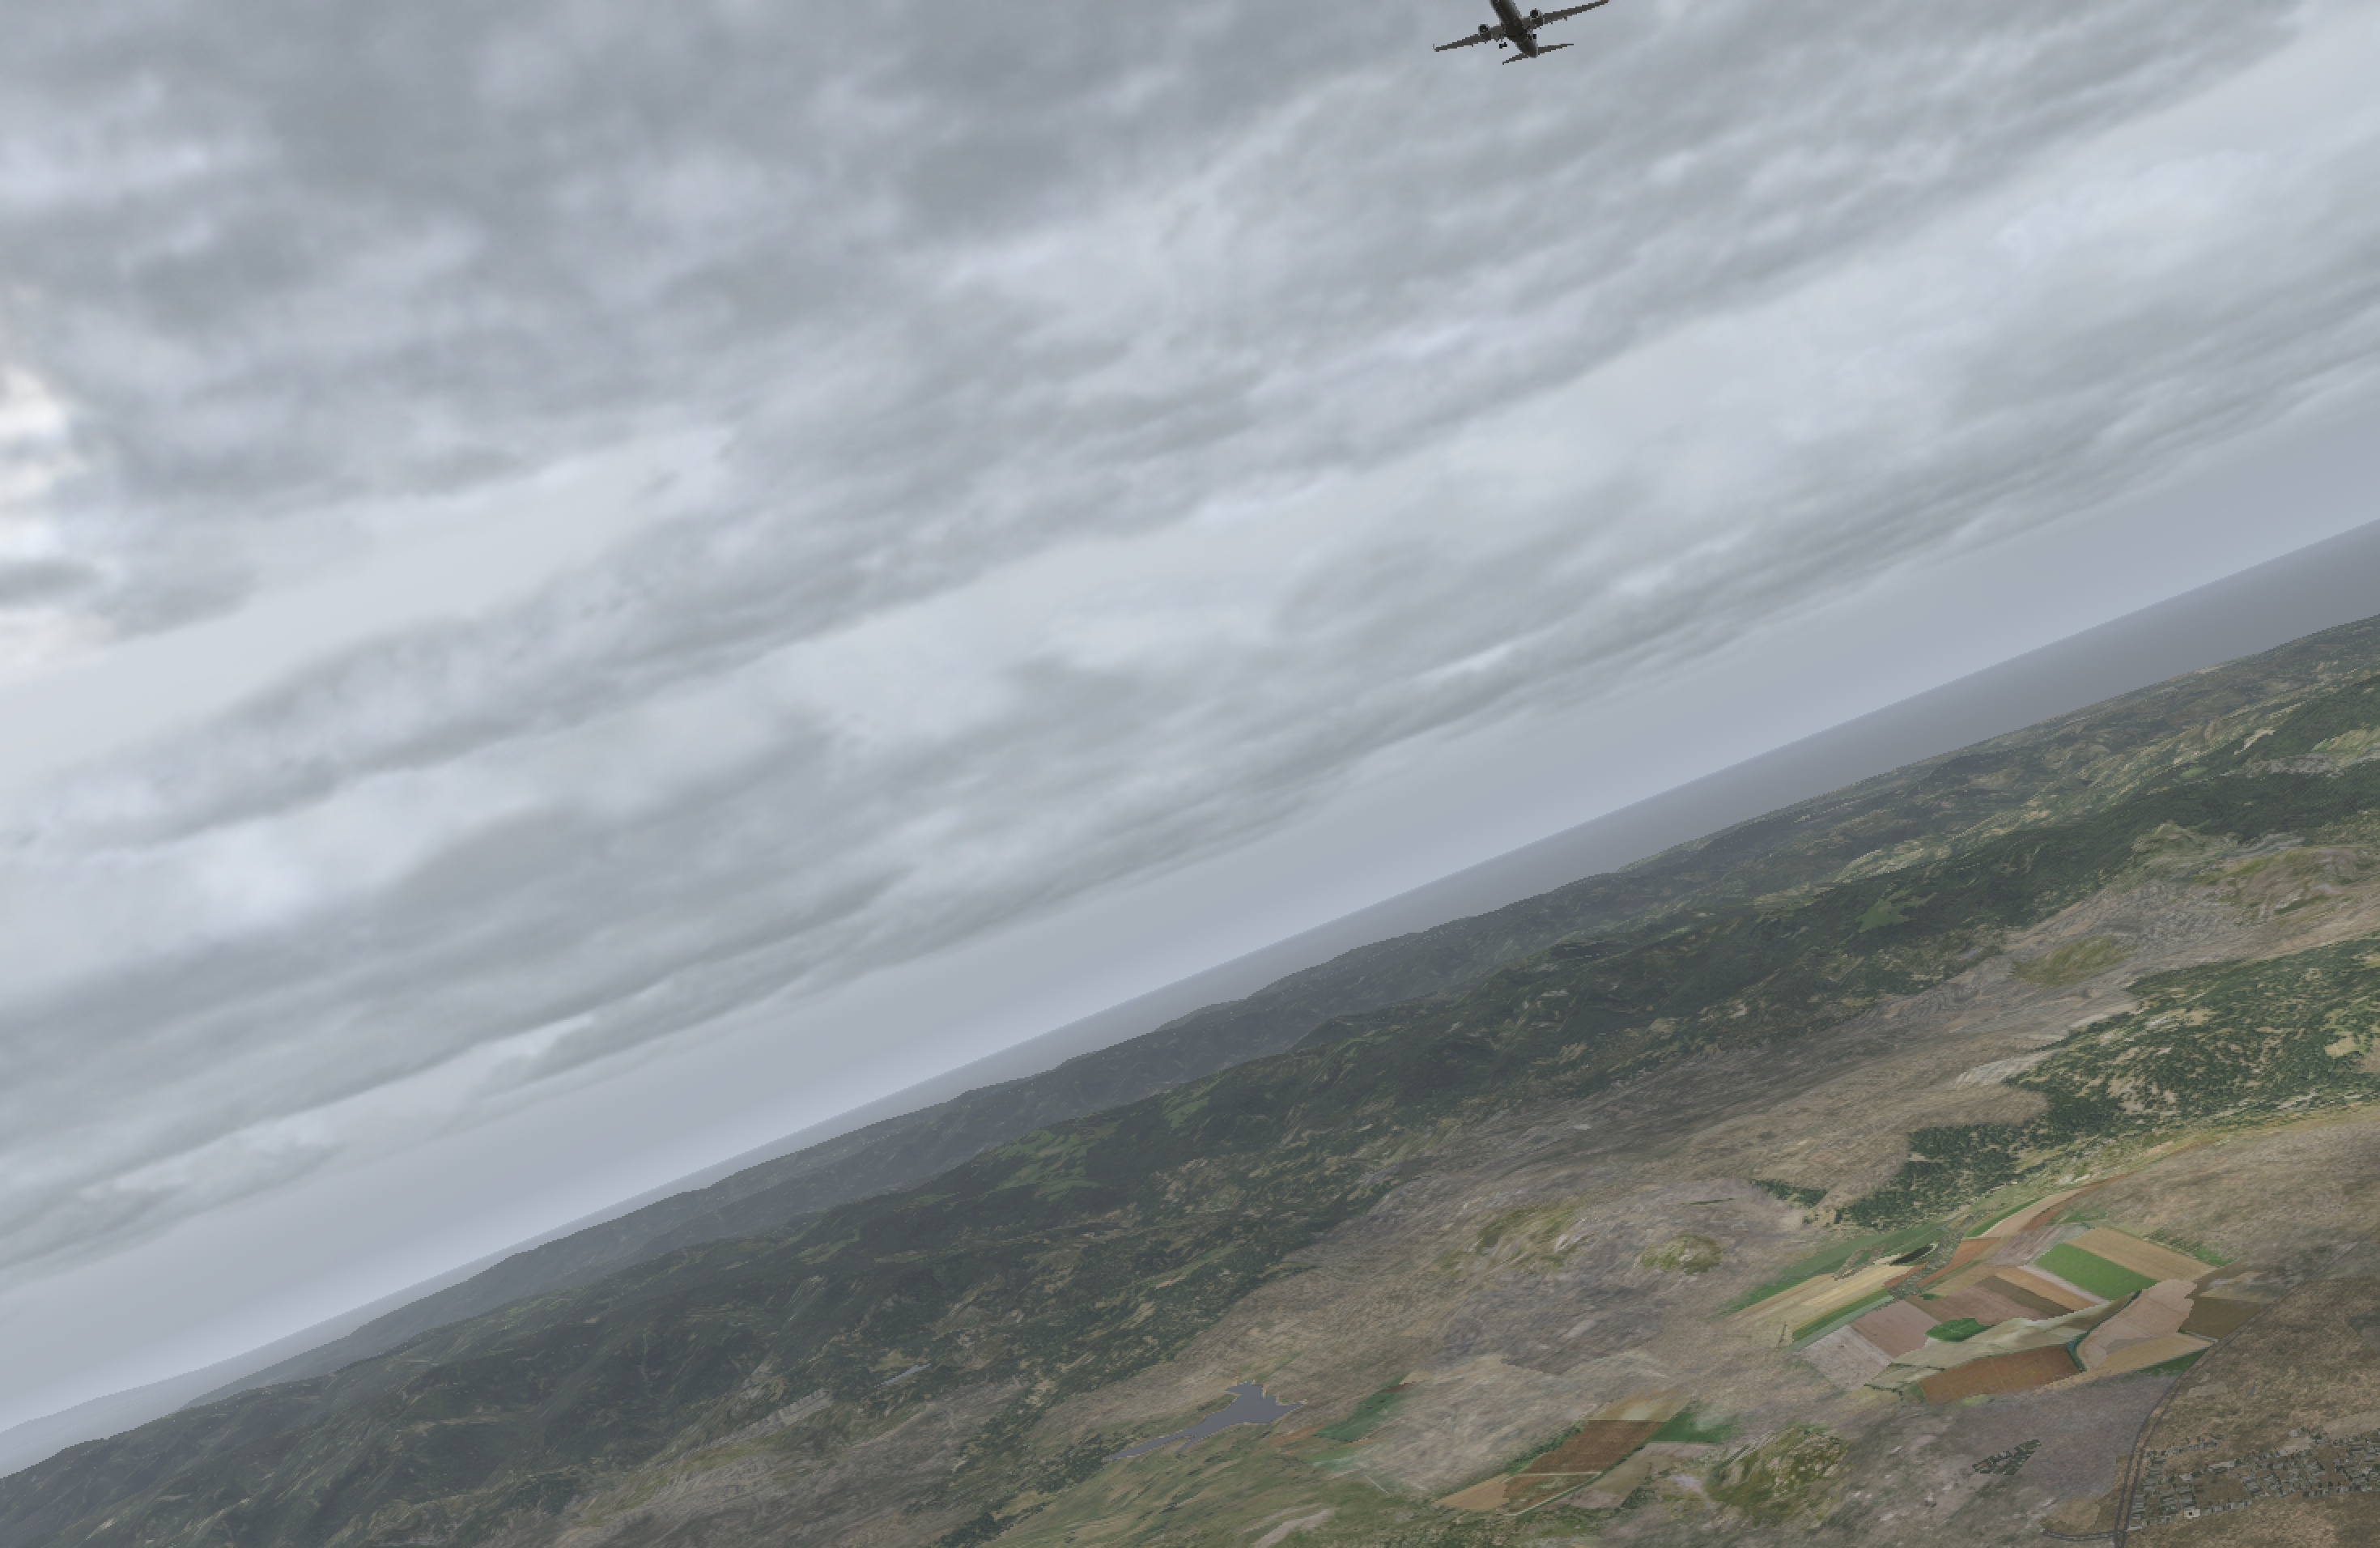aircraft: (1417, 0, 1612, 62)
